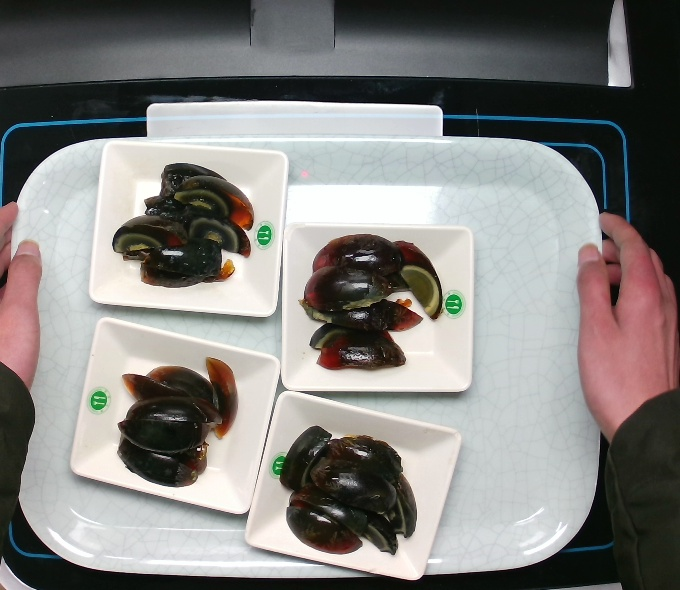wcq-PiDan: (294, 222, 447, 371), (270, 416, 424, 560), (104, 149, 259, 287), (104, 346, 249, 493)
